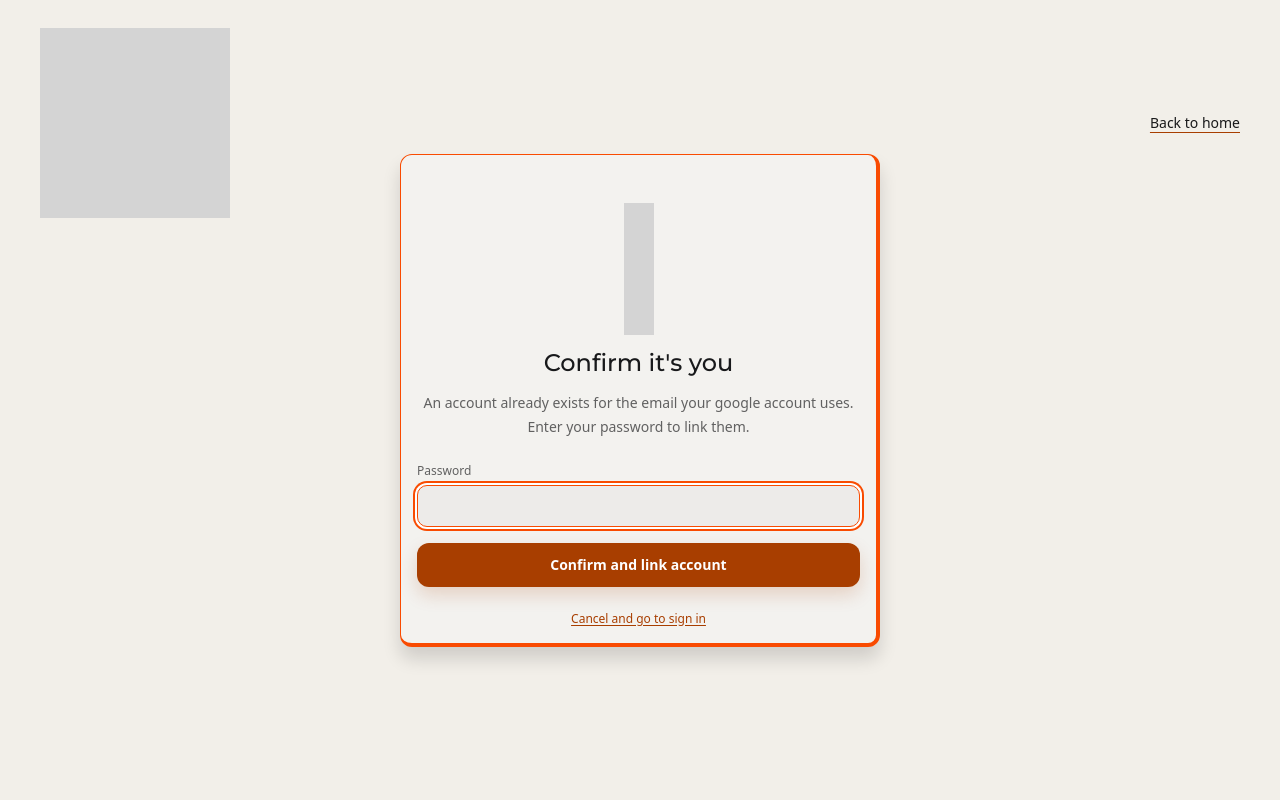
Test: OAuthCompletePage › status=pending-link shows an error and does not navigate on a wrong password
Type "wrong-password" into the password field labelled "Password" at [638, 506], box [417, 484, 860, 526]
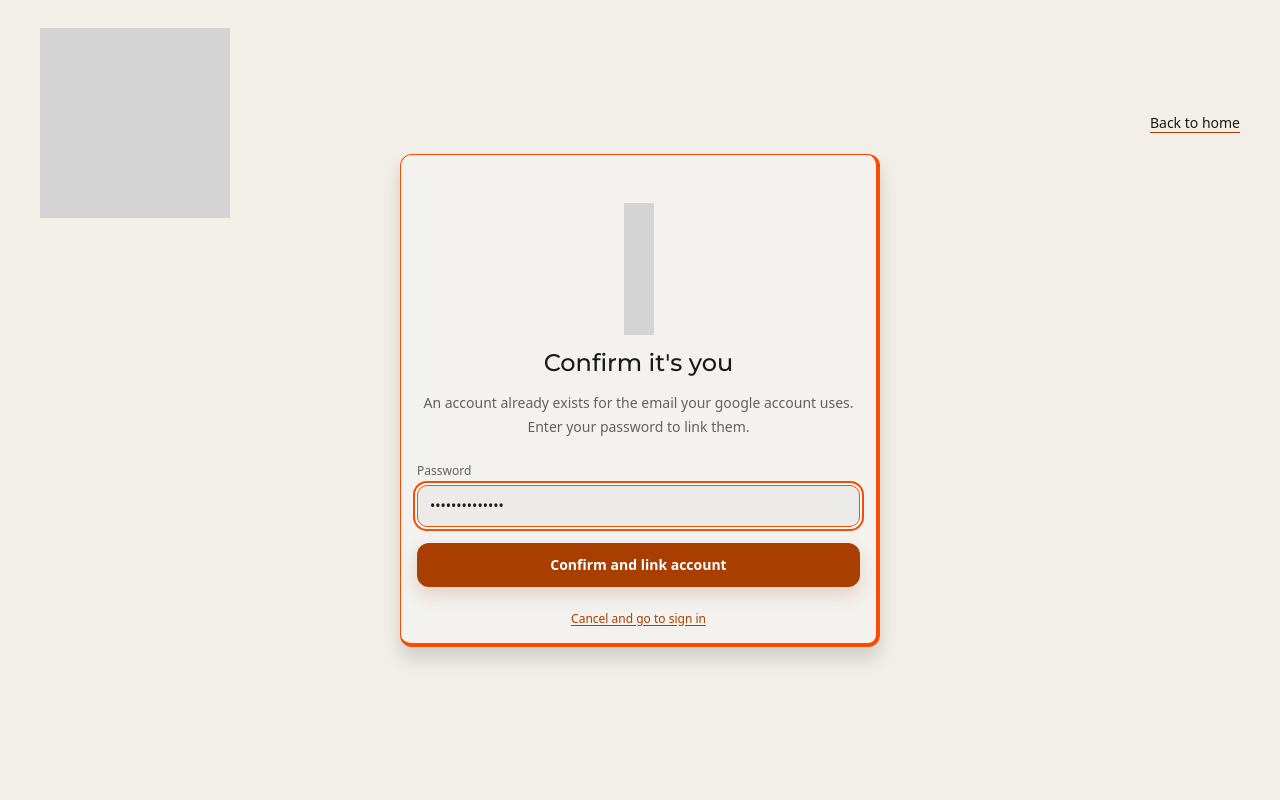
Click the button "Confirm and link account" at [638, 564], box [417, 542, 860, 586]
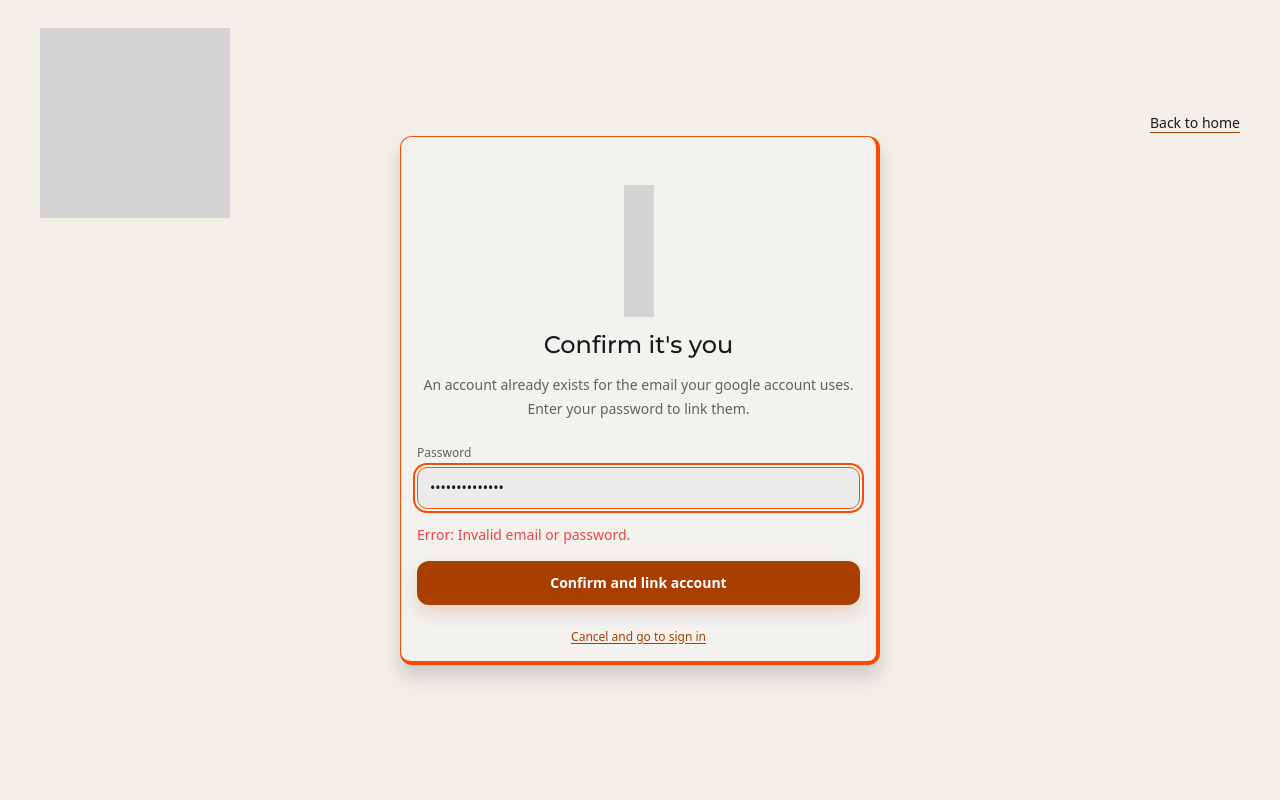
Expected: the message shows "Invalid email or password.", [417, 524, 630, 544]
